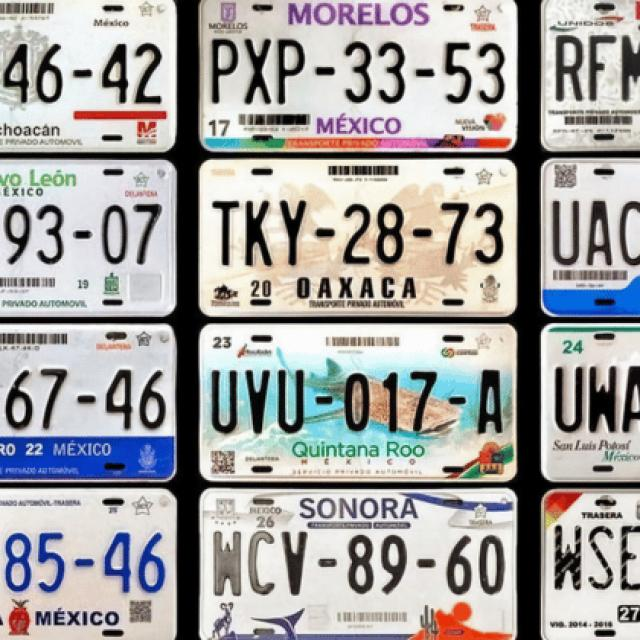placa: (203, 360, 512, 444), (201, 191, 516, 273), (198, 31, 514, 112), (206, 524, 515, 600)
